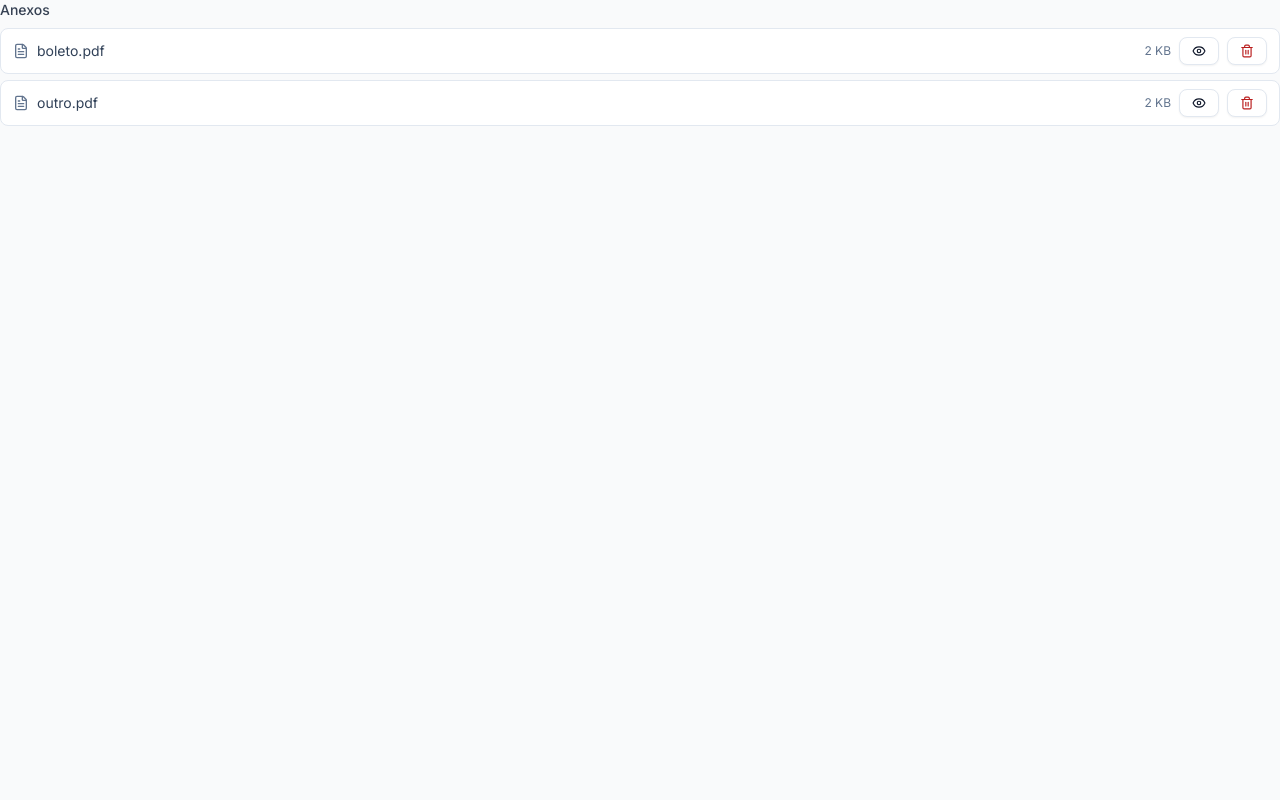
ContaAttachments › após remover, o anexo some da lista e o pai é avisado
The width and height of the screenshot is (1280, 800).
Click the button named "Remover boleto.pdf": (1247, 51) [1227,37,1267,65]
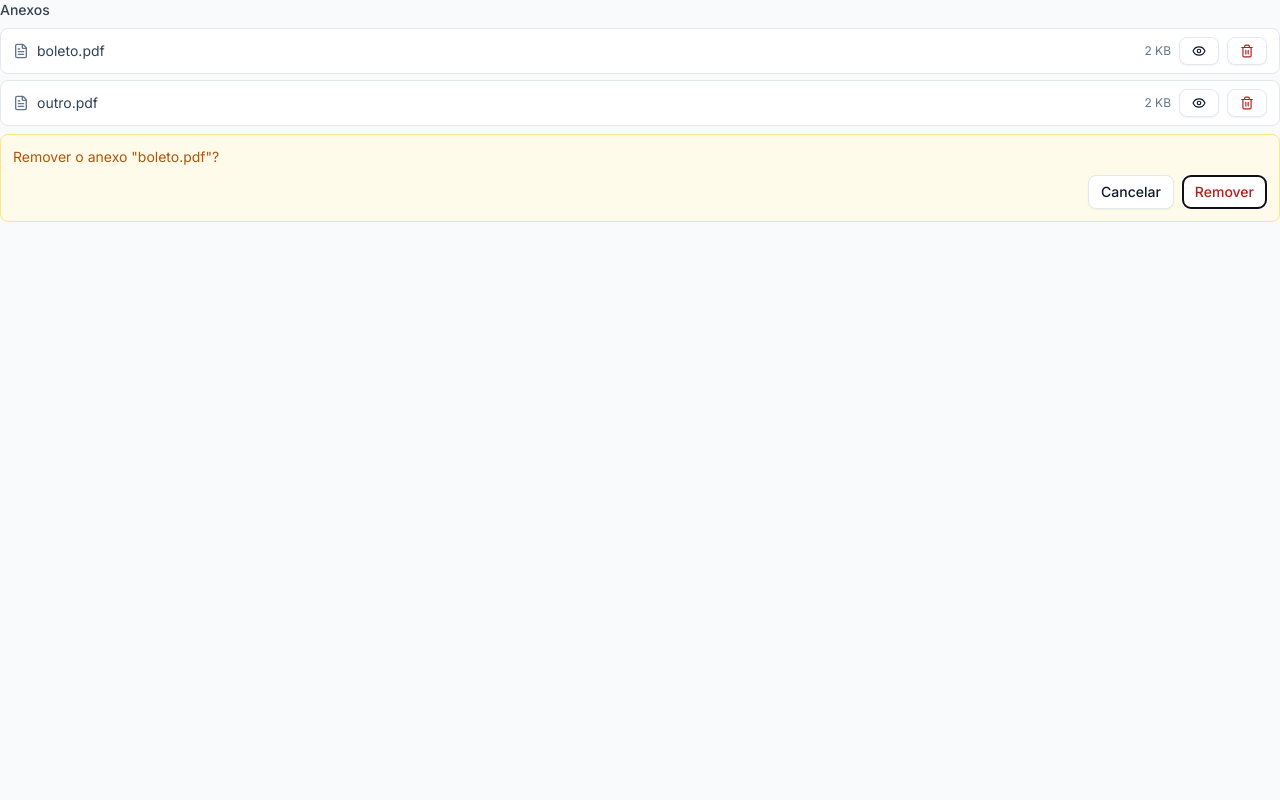
Click the button "Remover": (1224, 192) [1182,175,1267,209]
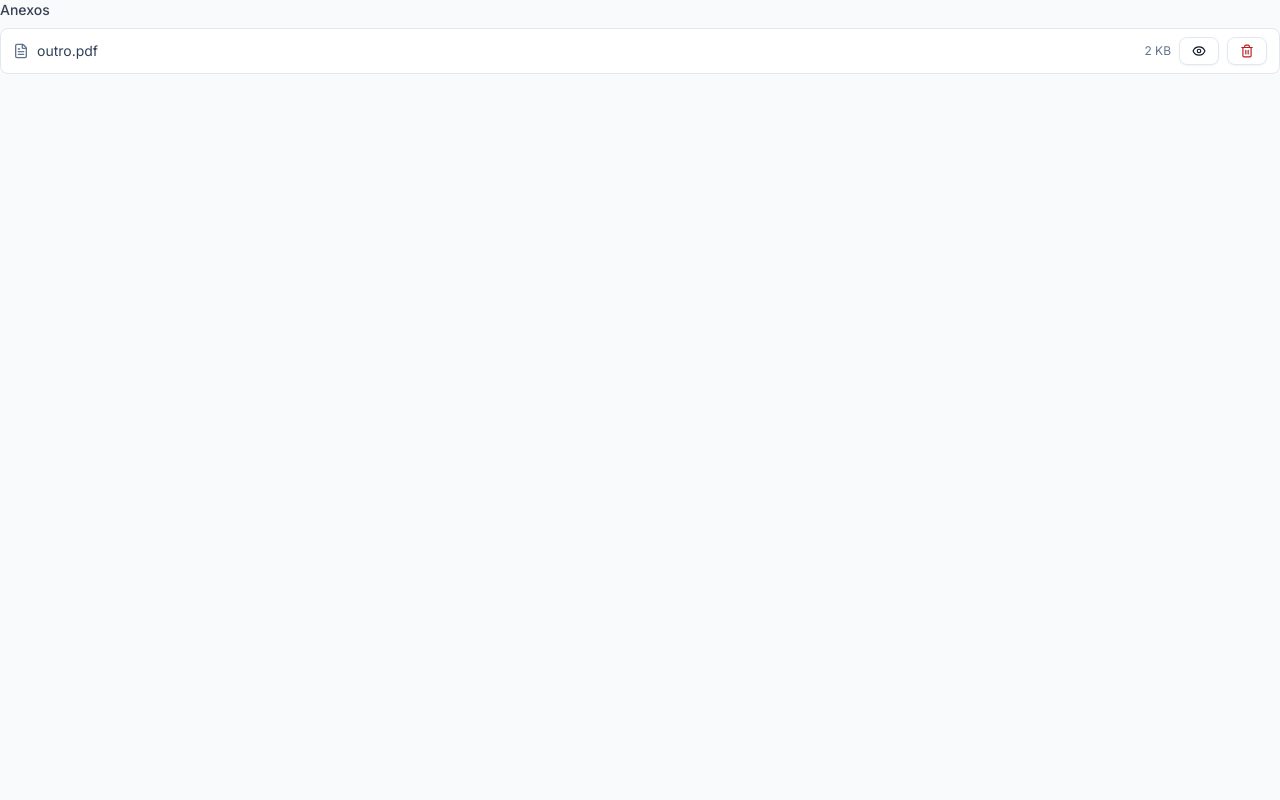
expect the text "outro.pdf" is shown: met, box [37,42,98,59]
expect the button "boleto.pdf" is gone: met
